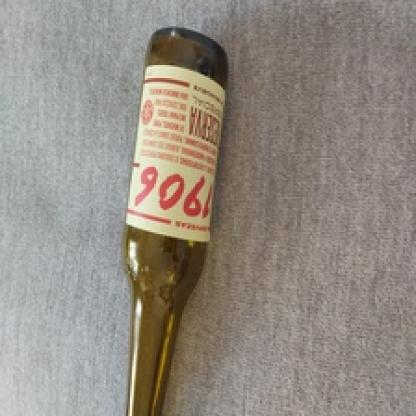Can: (123, 30, 229, 416)
